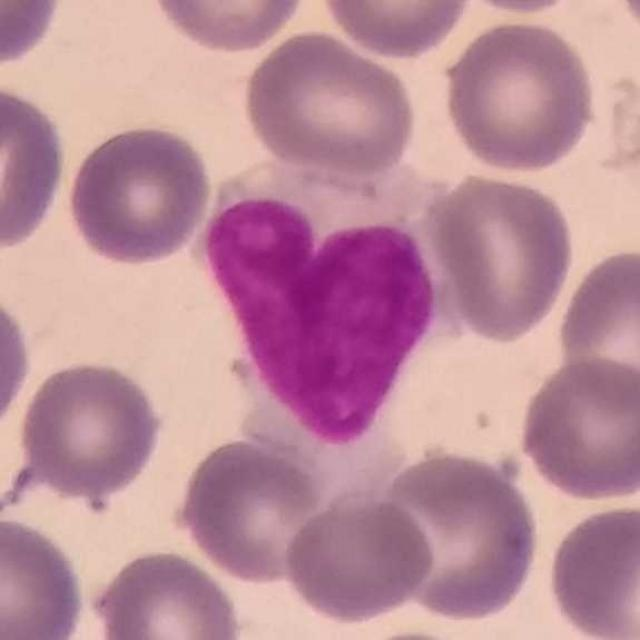Monocyte: (208, 157, 456, 474)
RBC: (368, 444, 544, 626), (238, 28, 421, 180), (423, 168, 578, 345), (437, 14, 600, 177), (170, 433, 326, 587), (62, 120, 215, 270), (13, 356, 167, 504), (280, 488, 438, 626), (513, 352, 640, 504), (87, 545, 246, 640), (553, 242, 640, 408), (542, 500, 640, 640), (0, 81, 71, 256), (0, 512, 89, 640), (316, 0, 475, 61), (144, 0, 310, 56), (0, 282, 35, 445), (0, 0, 67, 70), (446, 0, 594, 18), (336, 625, 504, 640), (604, 0, 640, 47)
